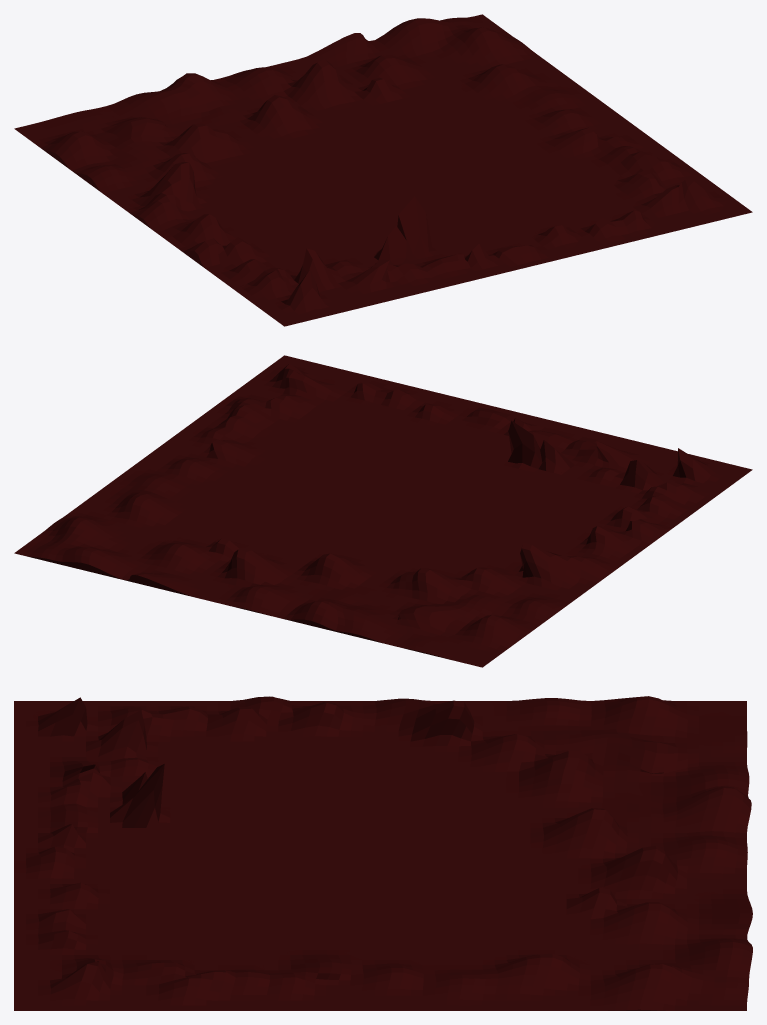
The model's file is world2.obj.
3 renders of one model, top to bottom at view 1: azimuth 30°, elevation 25°; view 2: azimuth 150°, elevation 25°; view 3: azimuth 270°, elevation 25°, orthographic. The views are drawn at different scales.
Parts seen in each view (by area): view 1: Plane; view 2: Plane; view 3: Plane.
Part boxes in pixels (x1=…): Plane: x1=14, y1=14, x2=752, y2=326; Plane: x1=14, y1=355, x2=752, y2=667; Plane: x1=14, y1=696, x2=752, y2=1010.
Size of the model in its own units: 10 by 0.9091 by 10.08.
